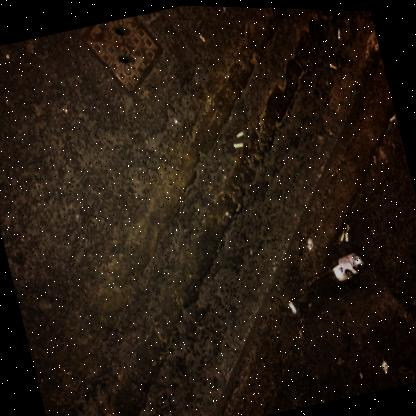Plastic: (306, 250, 364, 286)
Waste: (287, 299, 296, 312), (339, 226, 345, 240), (232, 142, 243, 147), (345, 218, 349, 230), (235, 130, 242, 136), (388, 114, 395, 120), (344, 229, 347, 240)
